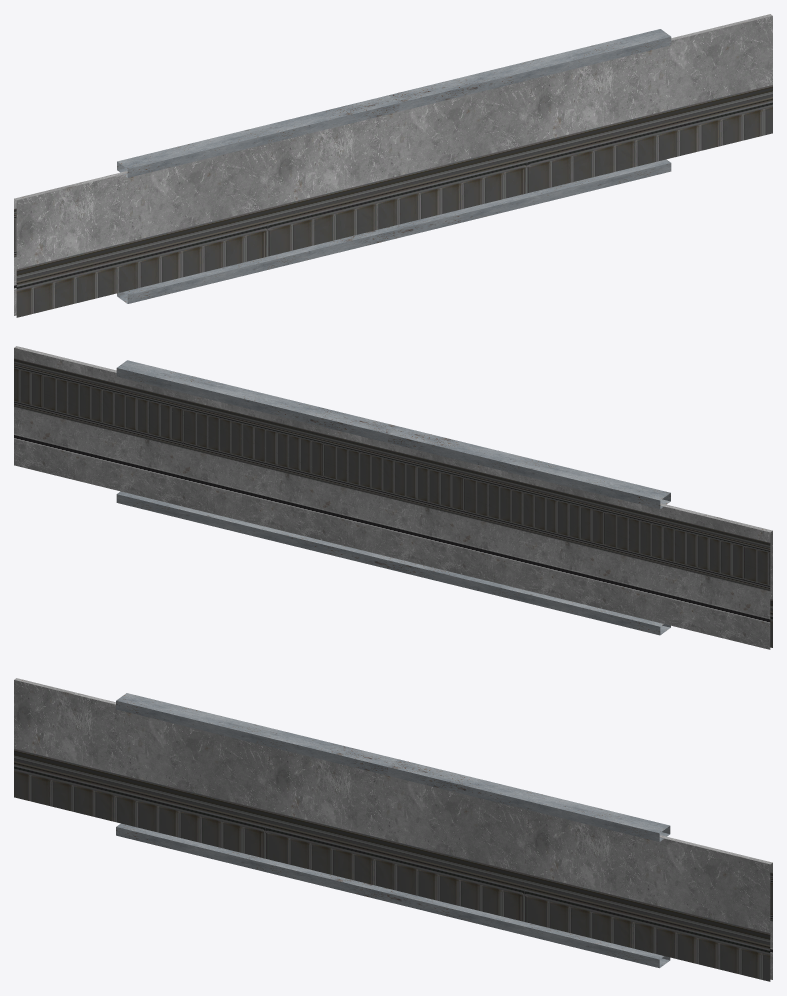
The model's file is Ob_ScafHorizThick_RC.fbx.
3 views of the same model, one above another, from view 1: azimuth 30°, elevation 25°; view 2: azimuth 150°, elevation 25°; view 3: azimuth 330°, elevation 25° (orthographic).
Parts seen in each view (by area): view 1: Ob_ScafHorizThick_RC; view 2: Ob_ScafHorizThick_RC; view 3: Ob_ScafHorizThick_RC.
Part boxes in pixels (box(x1,y1,x2,y2)): Ob_ScafHorizThick_RC: box(14, 14, 772, 317); Ob_ScafHorizThick_RC: box(14, 346, 772, 649); Ob_ScafHorizThick_RC: box(14, 678, 772, 981).
Bounding box in the file's own units: 4983 × 849 × 121.
